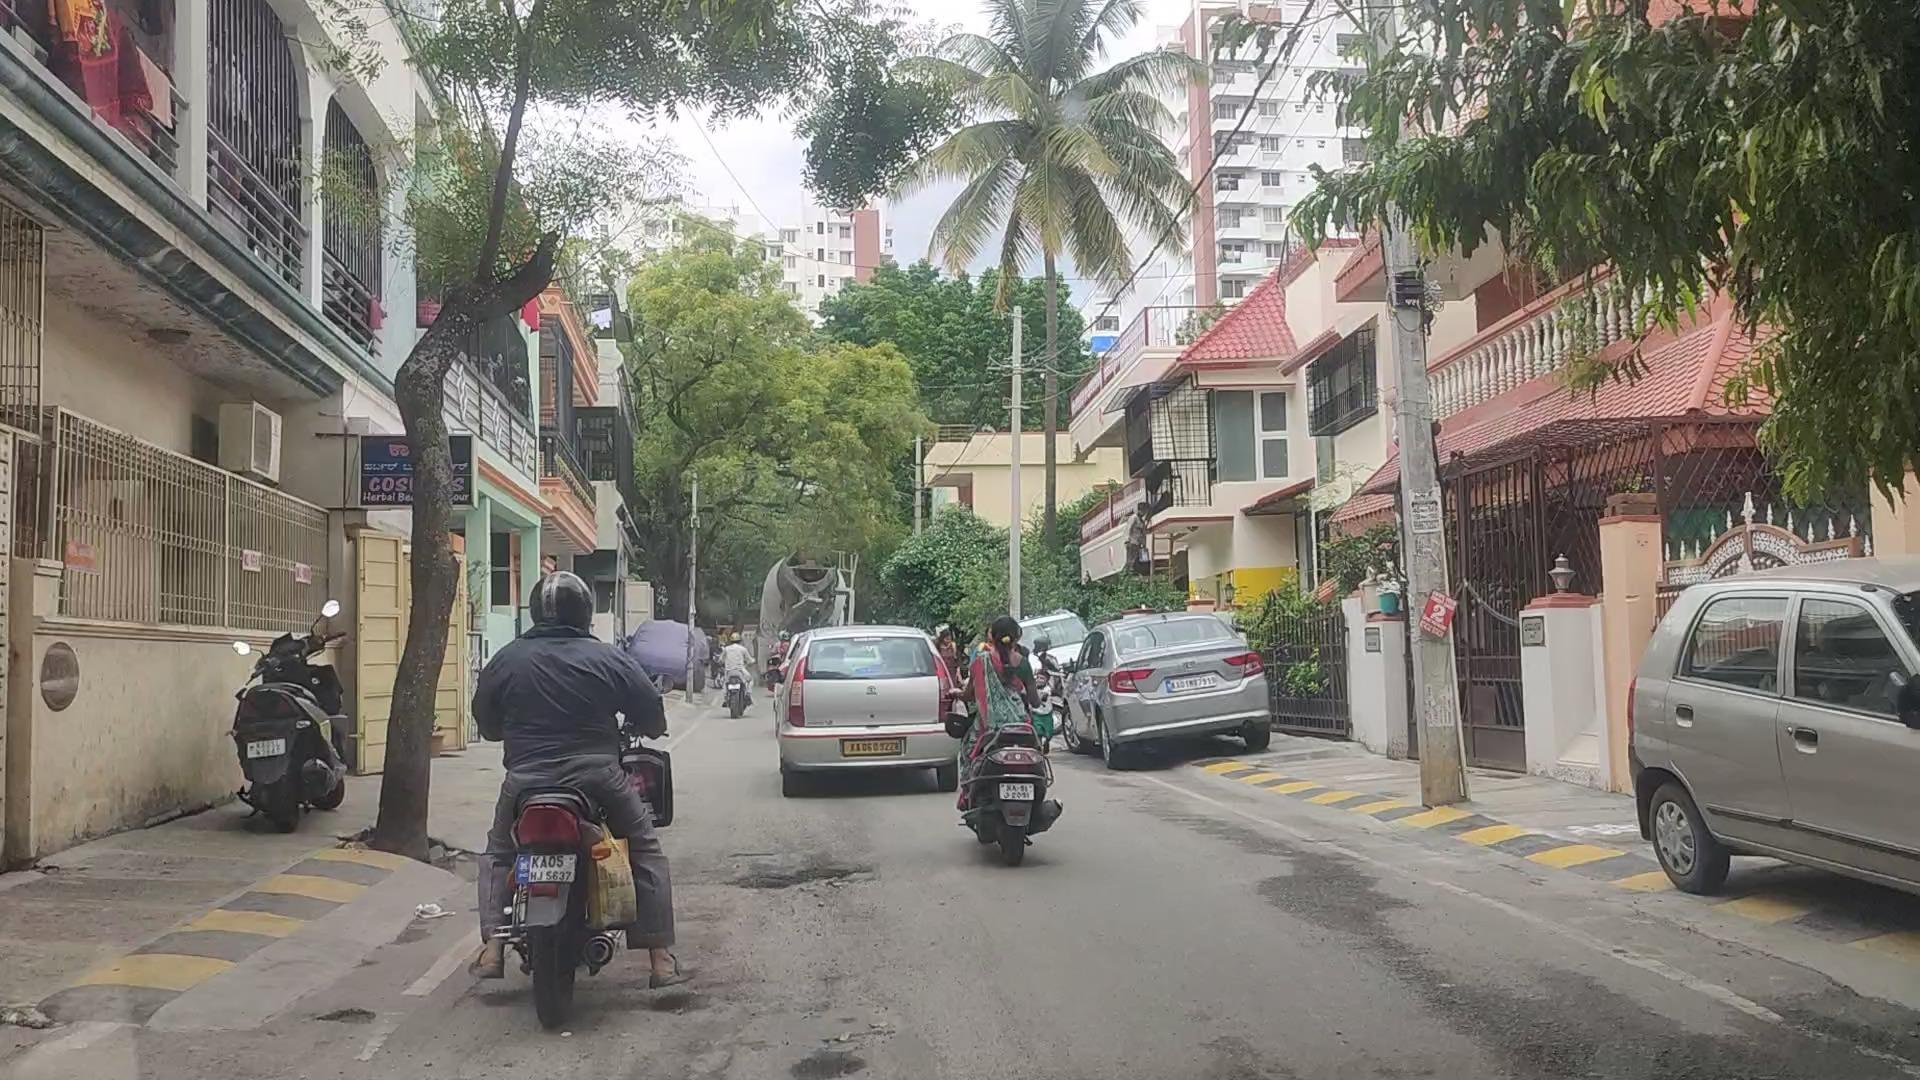LMV: (467, 562, 655, 1023), (787, 632, 961, 796), (960, 616, 1052, 887)
RoadDamages: (742, 831, 860, 920)
